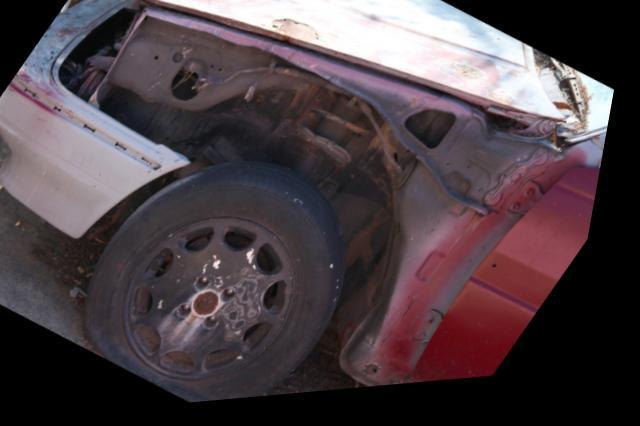no part: (55, 0, 571, 396)
tire flat: (95, 166, 357, 407)
